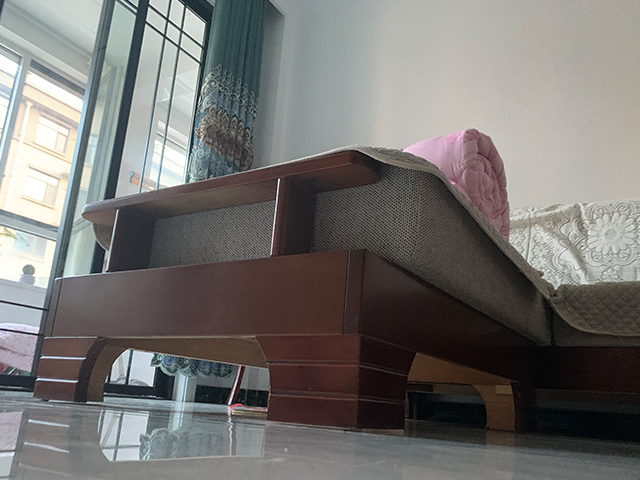curtain: (189, 2, 256, 184)
sofa: (31, 144, 640, 434)
